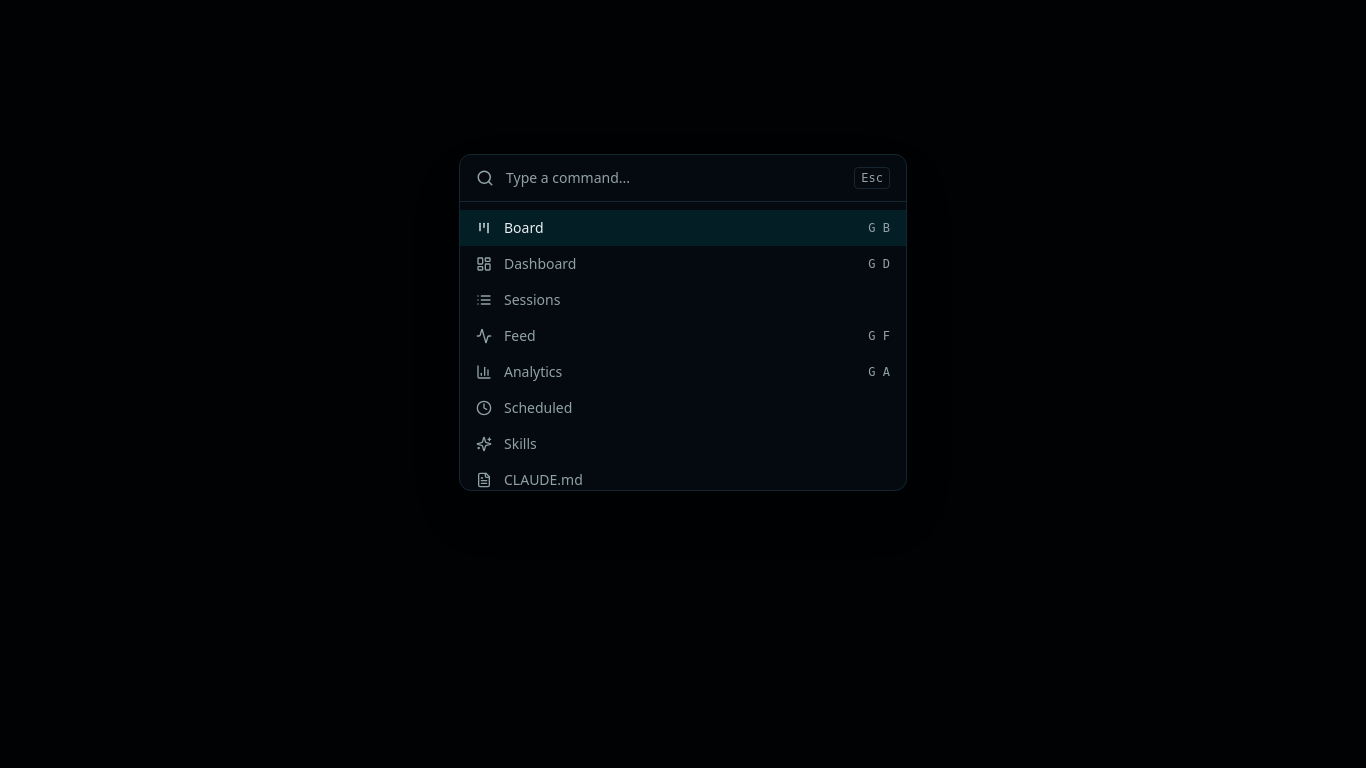
Test: CommandPalette › filters commands by query
Type "sched" into the dropdown named "Search commands".
click(674, 178); type("sched")  # box [506,168,842,188]
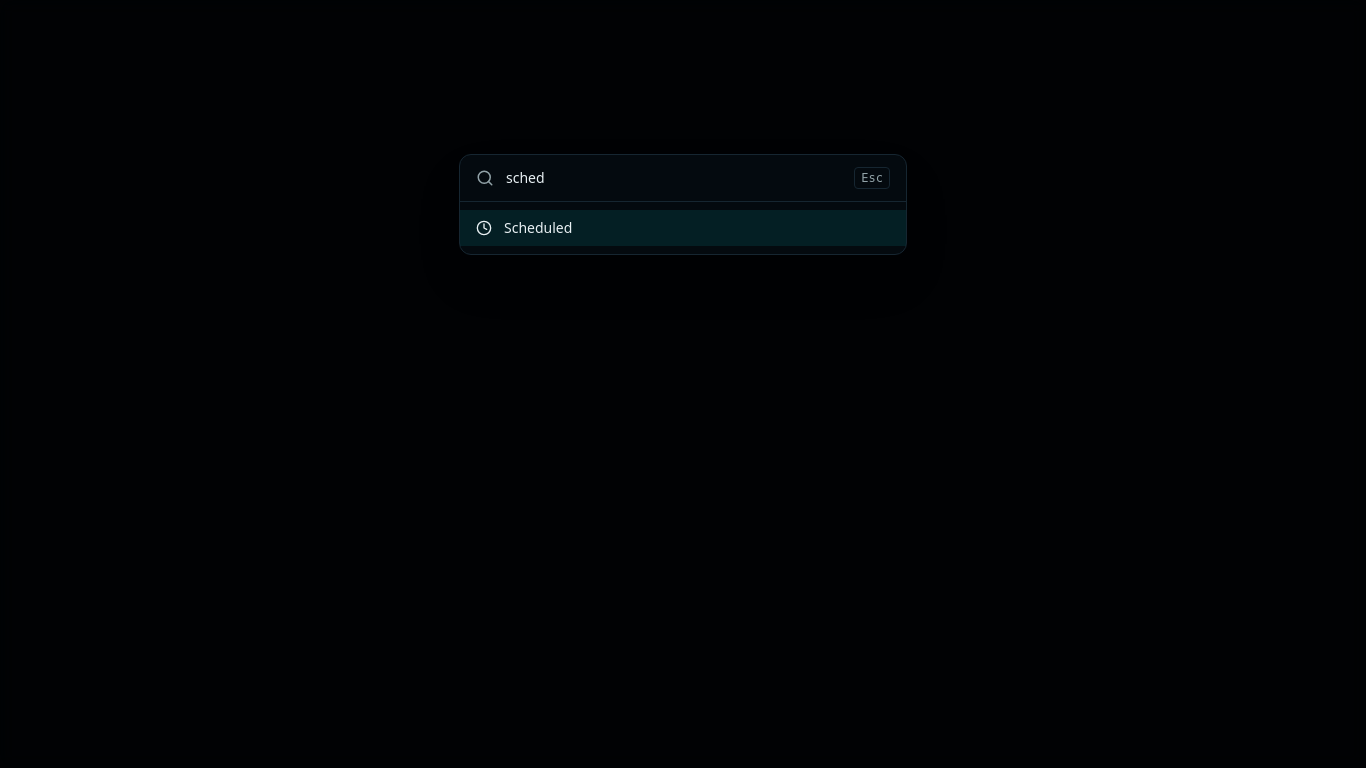
Check: the text "Scheduled" is shown, box [504,218,572,237]
Check: the option "Dashboard" is gone
